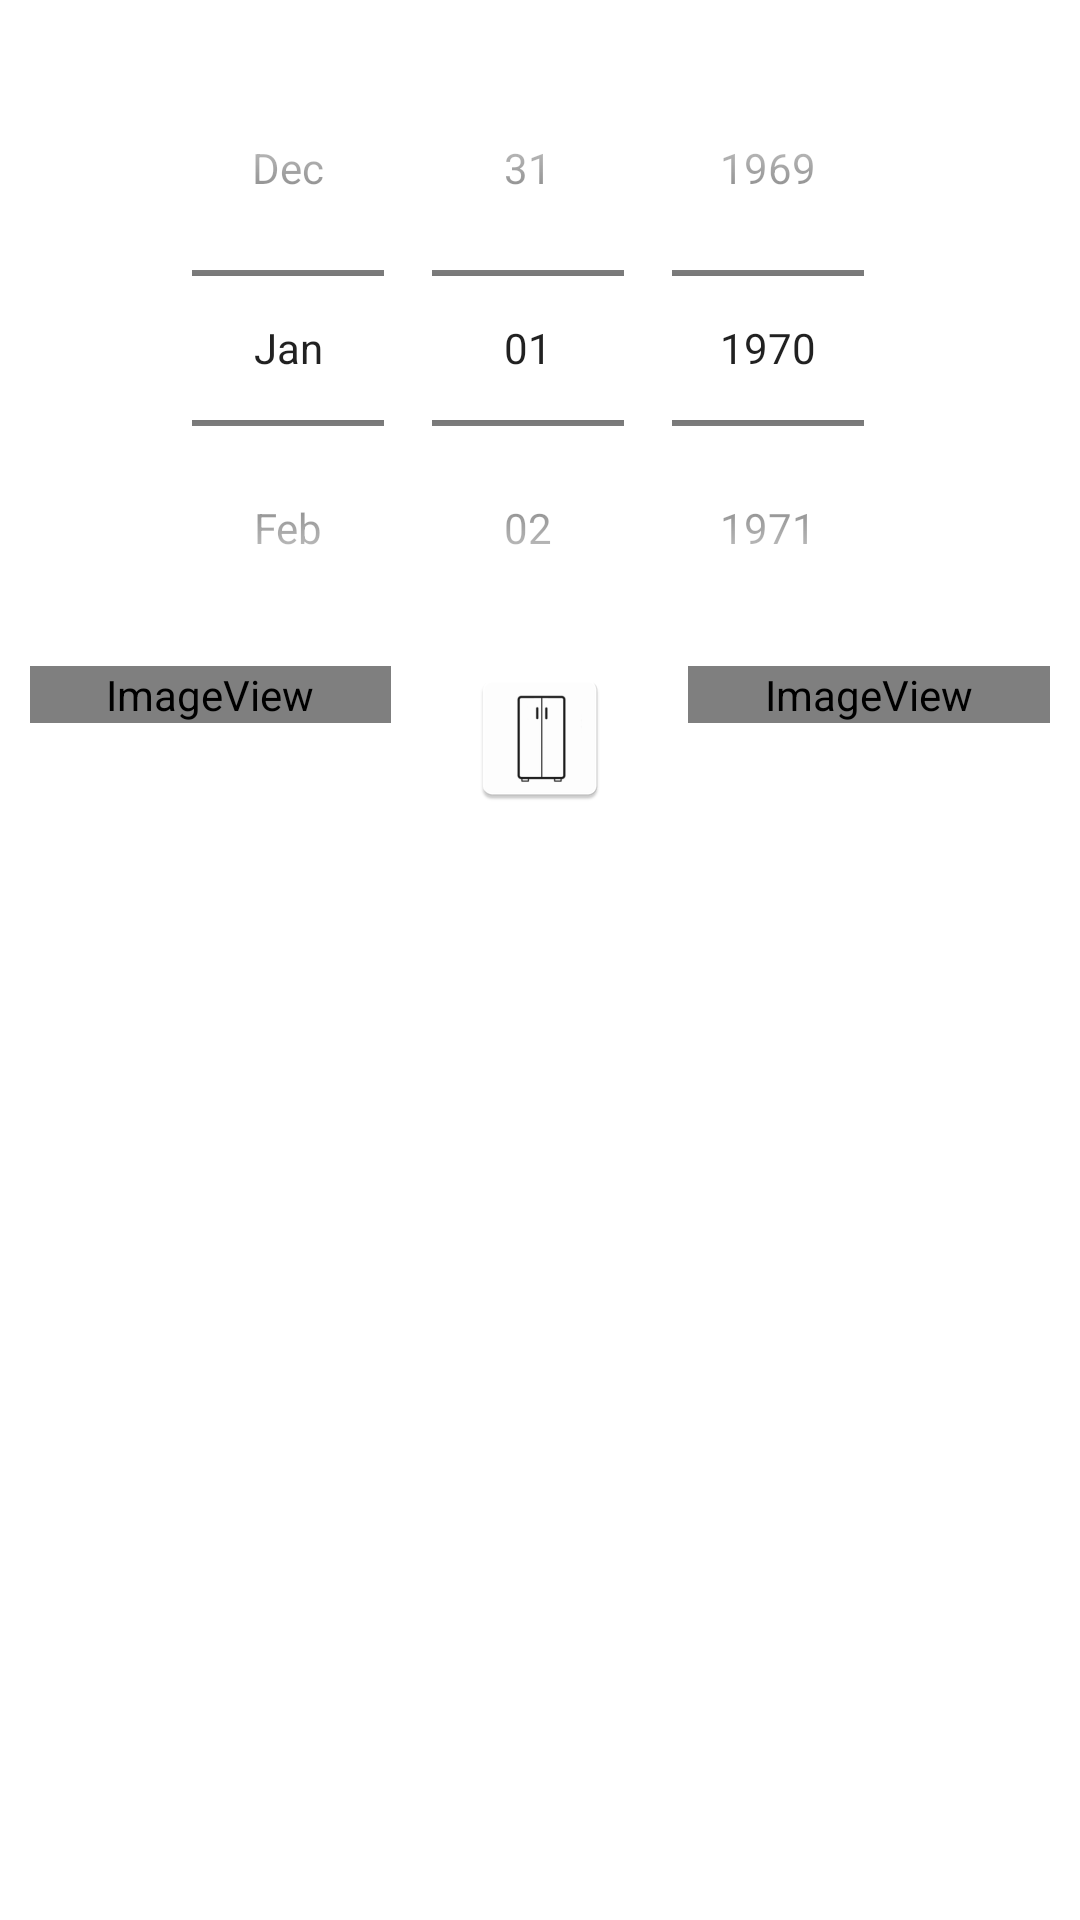

Icons on this 1080x1920 Android screen, each with the point to tap as (x,y):
pantry: (540,743)
